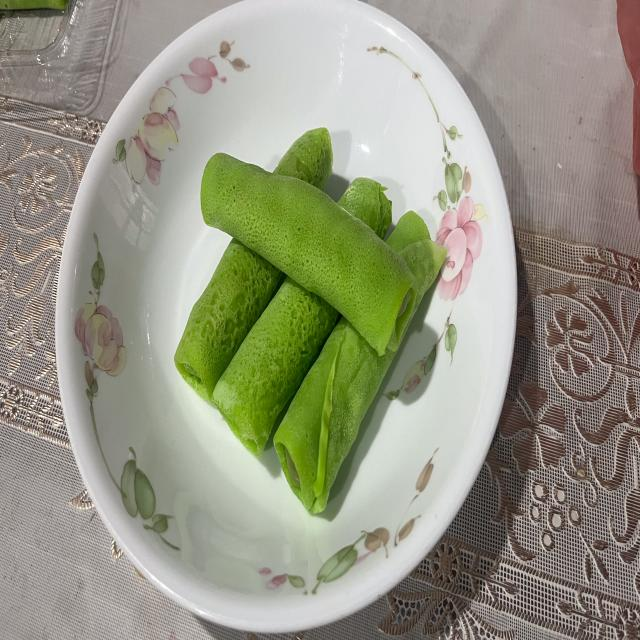Kuih-Ketayap: (274, 211, 446, 513), (200, 153, 414, 356), (212, 278, 339, 456), (175, 238, 284, 402), (274, 127, 332, 189), (339, 178, 391, 238)
